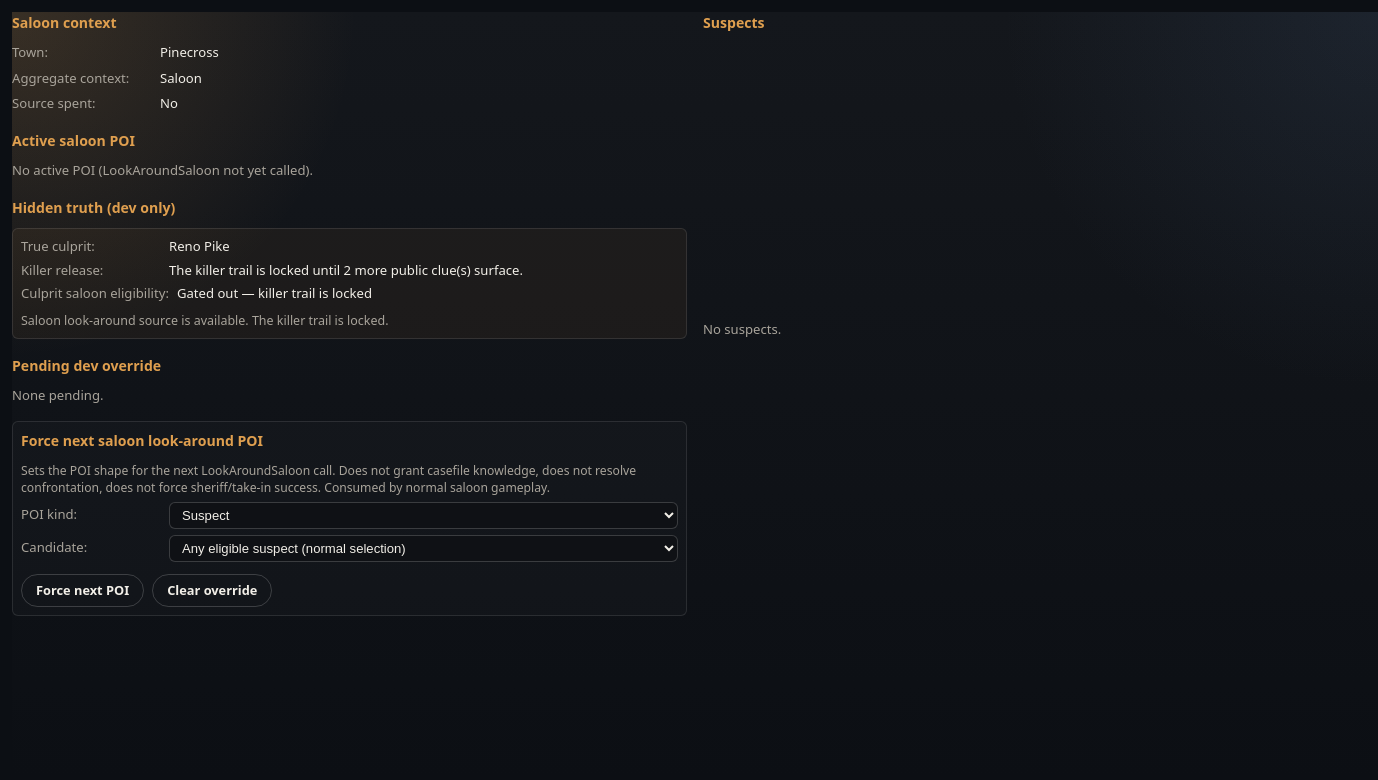
SaloonDevPanel › shows citizen role selector when Citizen is selected and hasNamedArchetypes is true
Expected: the heading "Force next saloon look-around POI" is shown, top-left (21, 431), bottom-right (263, 450)
Step 1. Select "Citizen" in the dropdown with test id "force-kind-select" → {"x": 424, "y": 515}, box top-left (169, 502), bottom-right (678, 528)
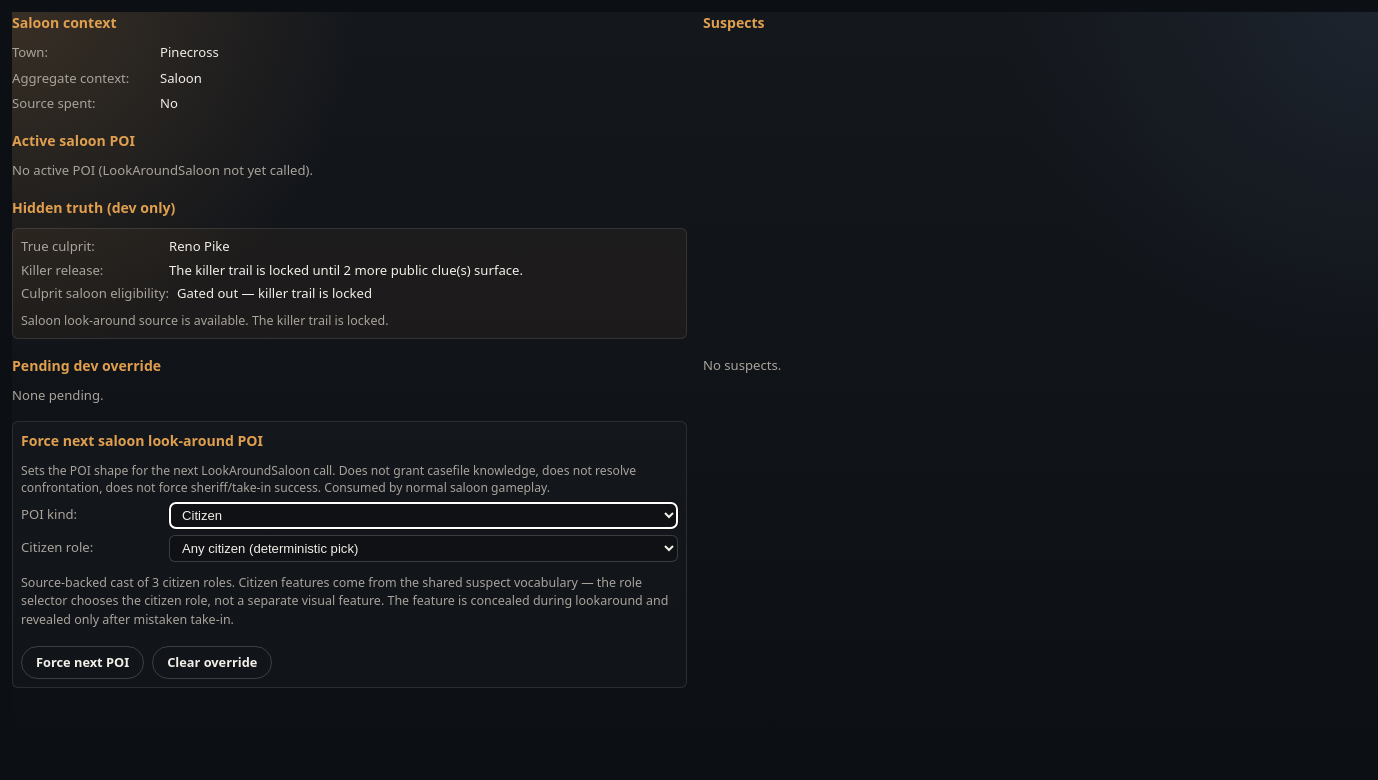
Expected: the dropdown with test id "force-citizen-role-select" is shown, top-left (169, 534), bottom-right (678, 562)
Expected: the text "Source-backed cast" is shown, top-left (21, 574), bottom-right (152, 590)
Expected: the text "shared suspect vocabulary" is shown, top-left (21, 574), bottom-right (668, 628)
